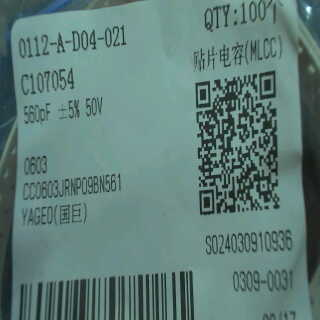560pF: (18, 100, 51, 126)
